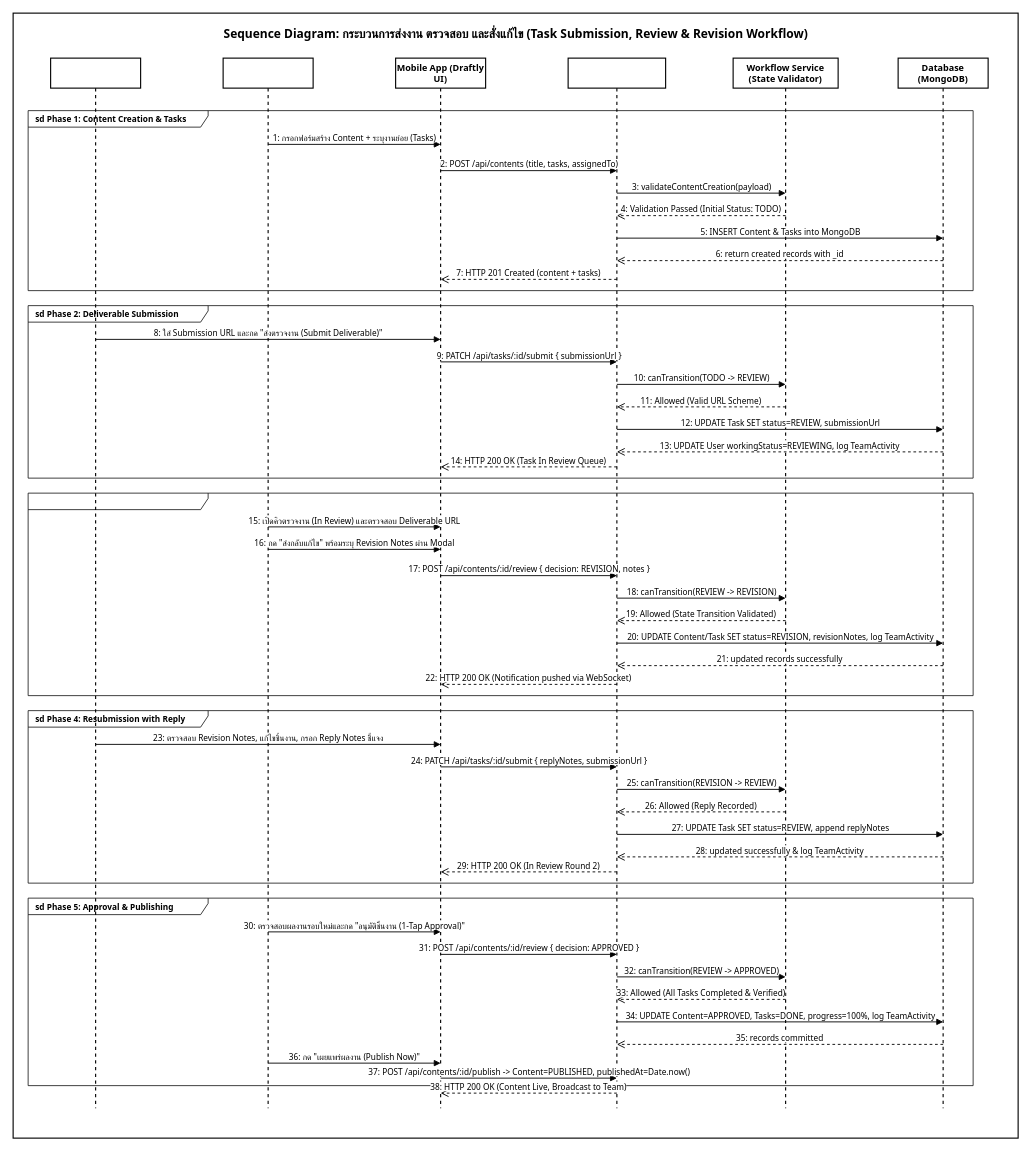
This 1032x1152 diagram has some shape labels left out. Here are the shapes that lost their labels. From the top down, the box of each, then its label:
(50, 57, 141, 1108): Member (ฝ่ายผลิต)
(222, 57, 313, 1108): Manager (หัวหน้าทีม)
(27, 492, 973, 696): sd Phase 3: Review & Revision Loop
(567, 57, 666, 1108): Backend API (Express Server)
